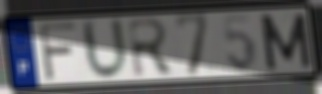5: (221, 14, 260, 74)
7: (174, 12, 213, 80)
F: (36, 21, 80, 84)
M: (257, 11, 315, 73)
R: (125, 16, 178, 80)
U: (79, 16, 132, 83)
